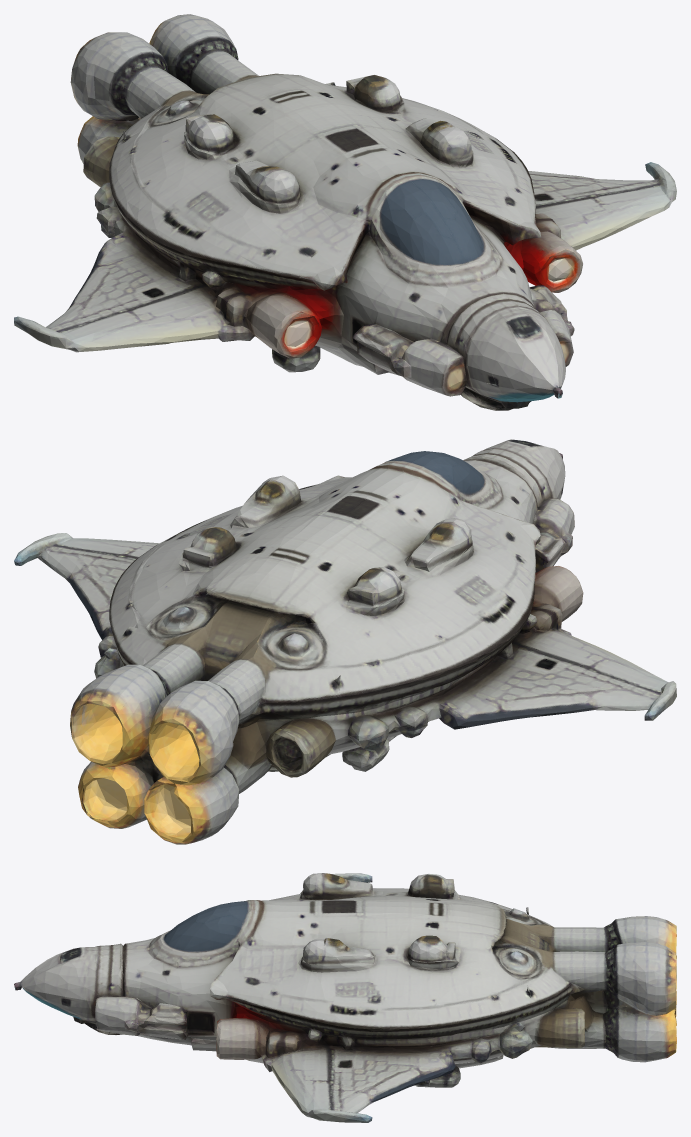
File: Sea Turtle Shuttle.glb
The picture shows the model from 3 angles, top to bottom: view 1: azimuth 30°, elevation 25°; view 2: azimuth 150°, elevation 25°; view 3: azimuth 270°, elevation 25°; orthographic projection. The views are drawn at different scales.
Visible parts, largest first — view 1: world; view 2: world; view 3: world.
Part boxes in pixels (x1,y1,x2,y2): world: (14,14,676,410); world: (14,439,676,844); world: (14,873,676,1122).
Size of the model in its own units: 0.8716 by 0.2629 by 1.
Materials: 1 (1 with a texture image).
